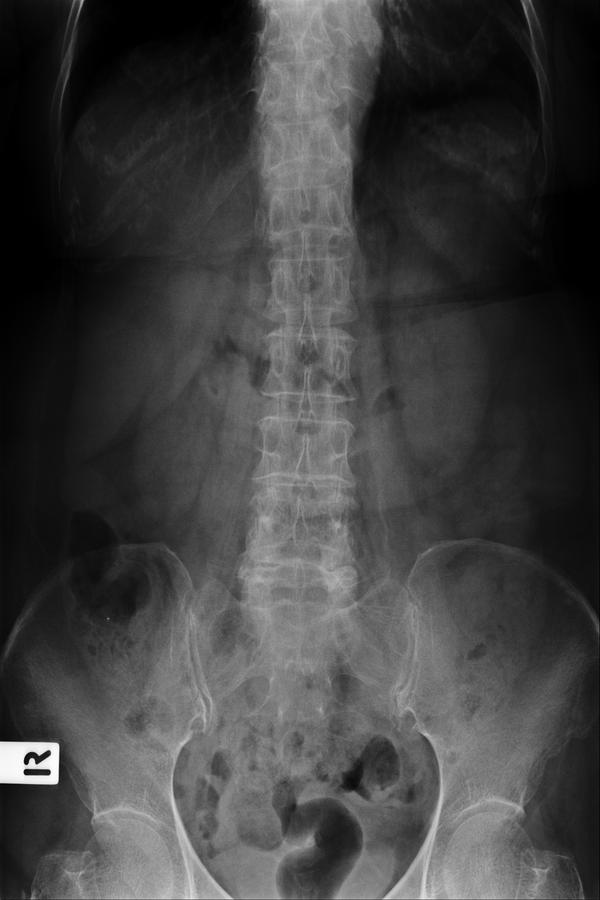lumbar scoliosis: (239, 46, 365, 618)
